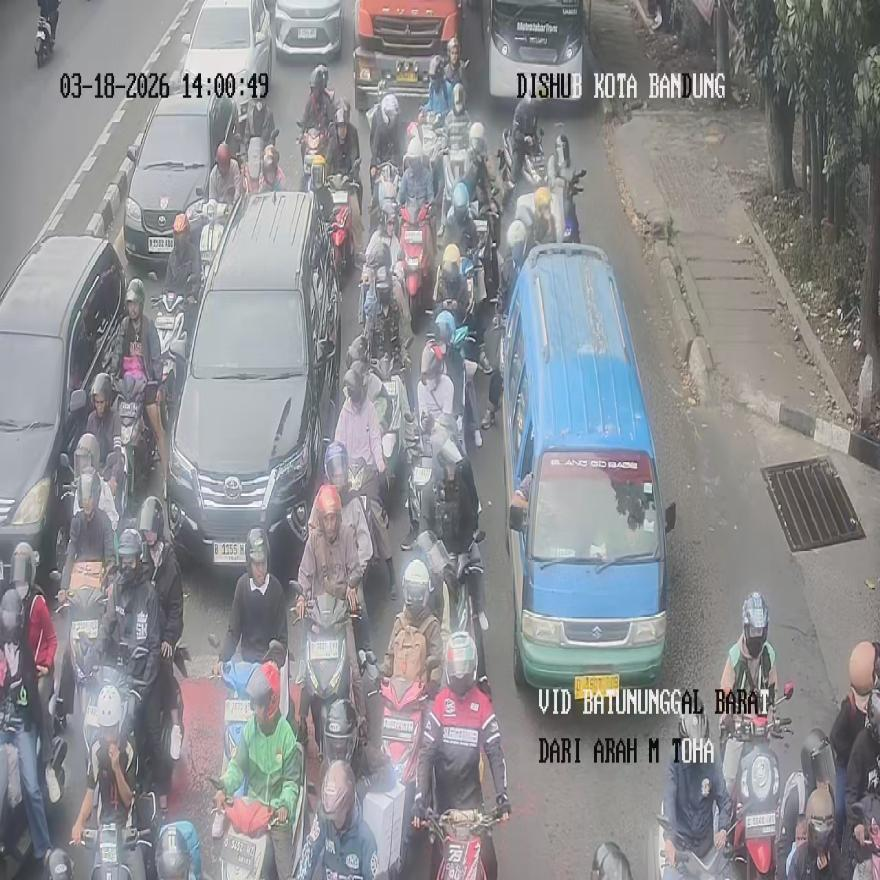Motor: (501, 244, 676, 709), (165, 190, 340, 570), (0, 234, 124, 591), (124, 84, 235, 275), (352, 0, 461, 115), (483, 0, 585, 101), (181, 0, 270, 101)
Truk: (719, 682, 793, 879), (210, 631, 292, 794), (289, 583, 360, 766), (420, 529, 484, 693), (779, 728, 839, 879), (378, 672, 430, 845), (76, 791, 156, 880), (367, 354, 404, 524), (655, 805, 737, 879), (211, 792, 279, 880), (429, 805, 507, 880), (116, 375, 159, 504), (358, 258, 402, 365), (152, 291, 187, 423), (400, 200, 434, 332), (496, 126, 546, 214), (189, 187, 229, 285), (241, 136, 284, 193), (296, 121, 329, 192), (559, 168, 586, 244), (374, 161, 400, 237), (34, 1, 60, 67)
